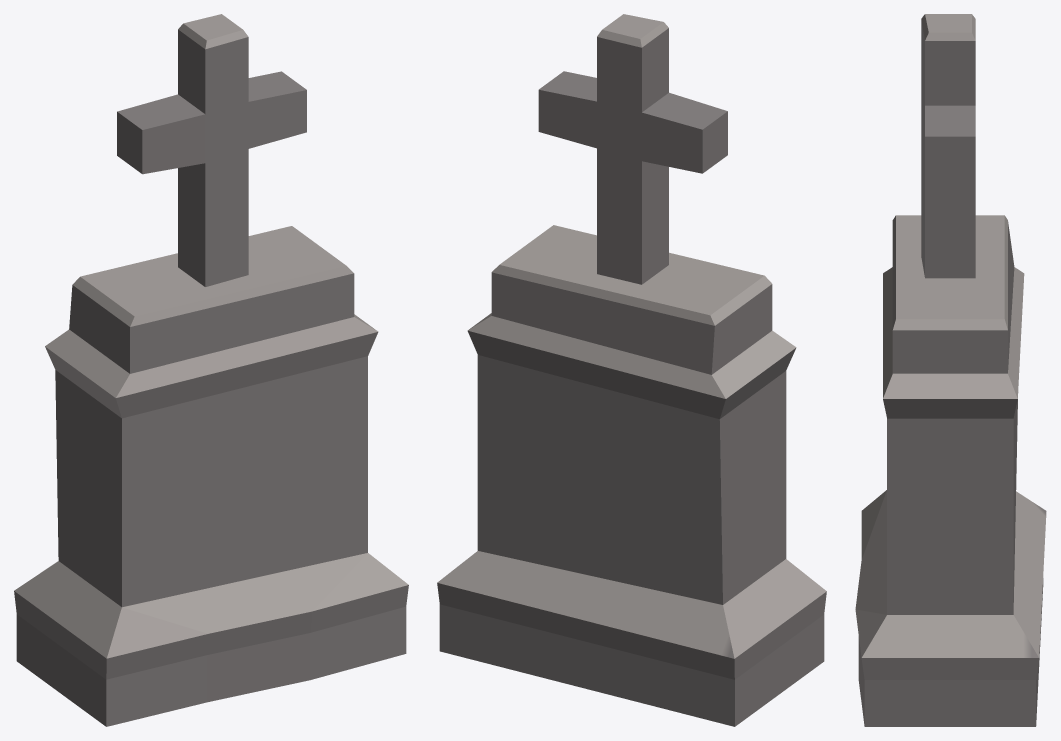
The model's file is gravestone.glb.
3 views of the same model, side by side, from view 1: azimuth 30°, elevation 25°; view 2: azimuth 150°, elevation 25°; view 3: azimuth 270°, elevation 25° (orthographic).
Visible parts, largest first — view 1: gravestone; view 2: gravestone; view 3: gravestone.
Part boxes in pixels (box(x1,y1,x2,y2)): gravestone: box(14, 14, 408, 726); gravestone: box(437, 14, 826, 726); gravestone: box(855, 14, 1046, 726).
Size of the model in its own units: 0.8466 by 1.69 by 0.4647.
Materials: 1 (1 with a texture image).
